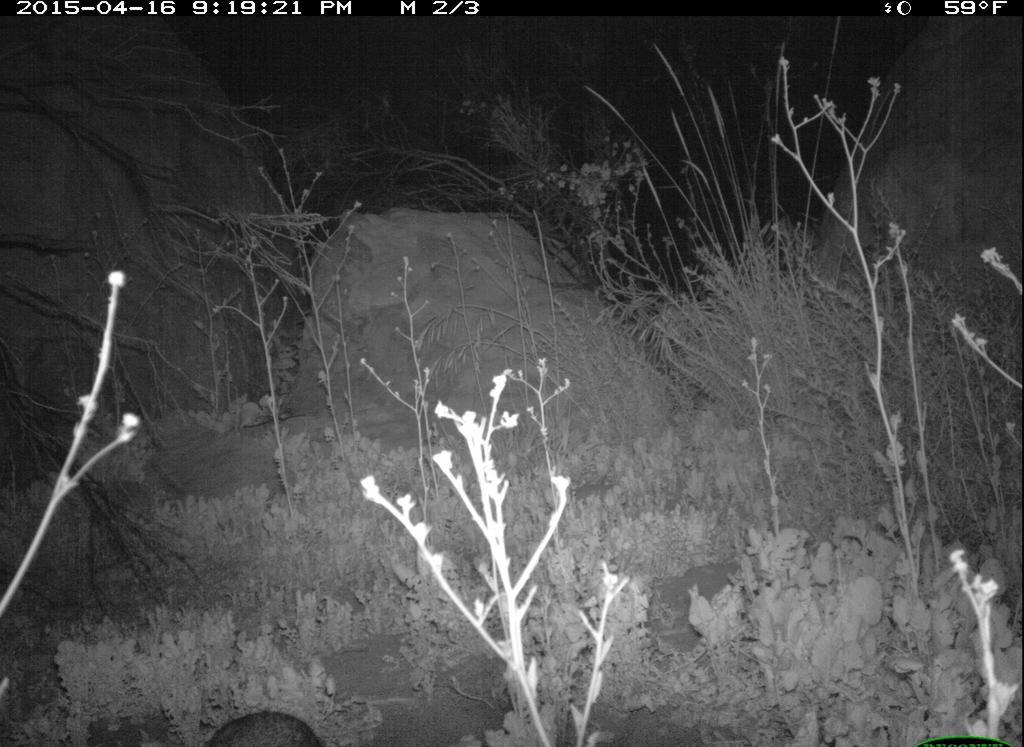rabbit: (189, 699, 319, 744)
